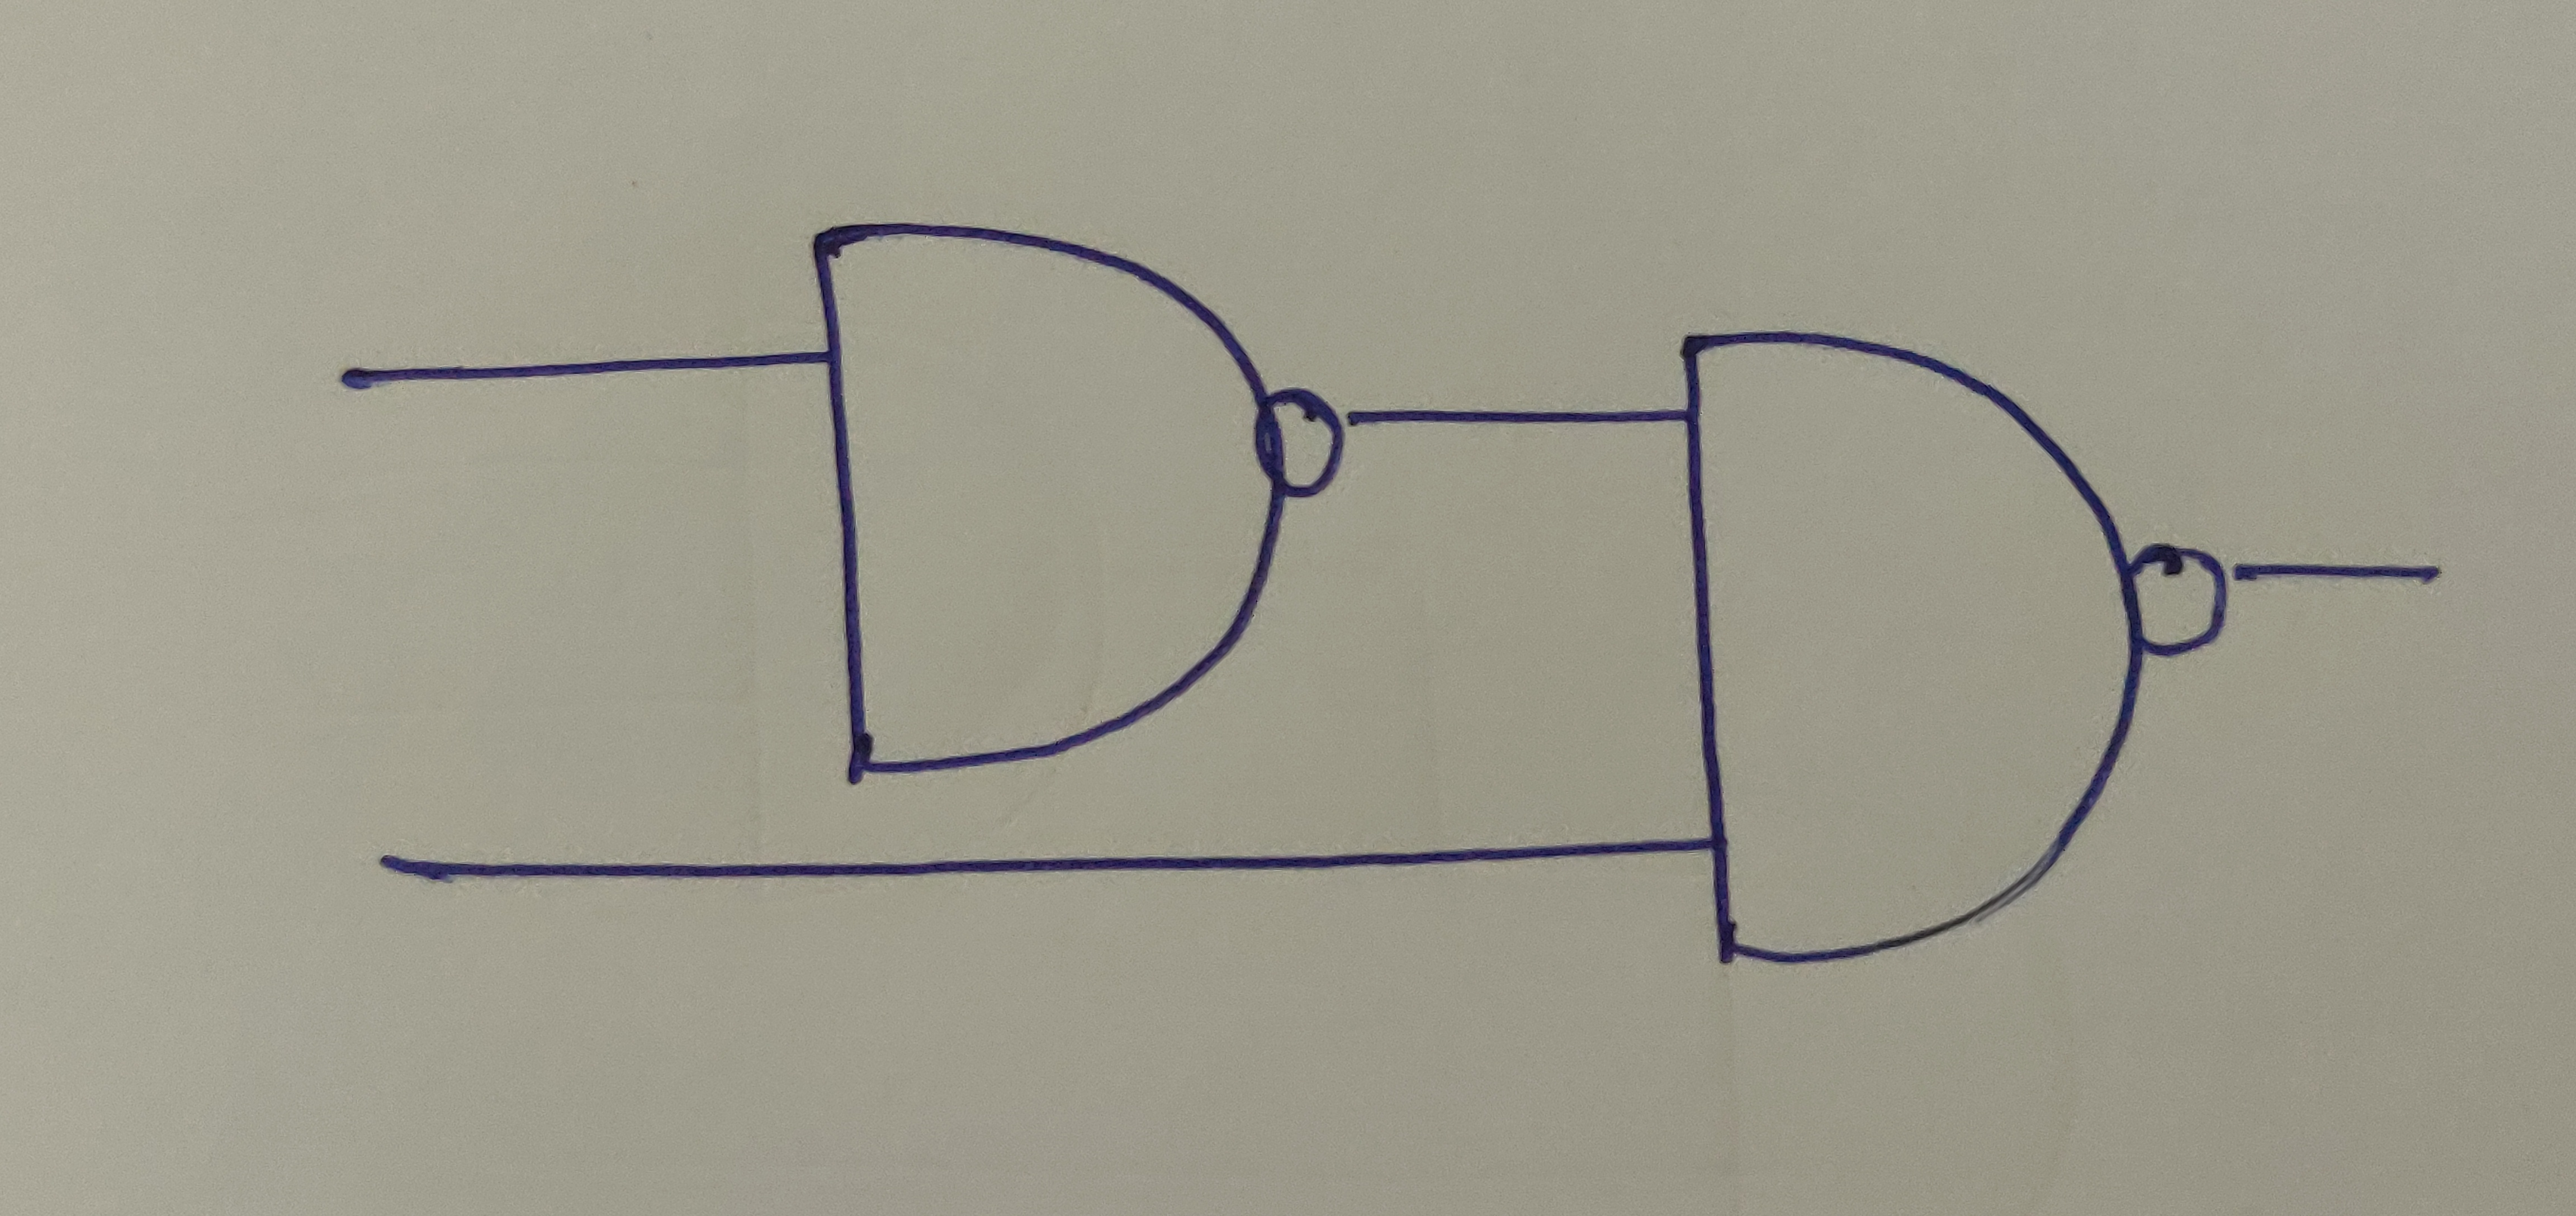and: (1674, 327, 2144, 970), (808, 222, 1283, 777)
not: (2123, 550, 2236, 652), (1255, 393, 1352, 498)
